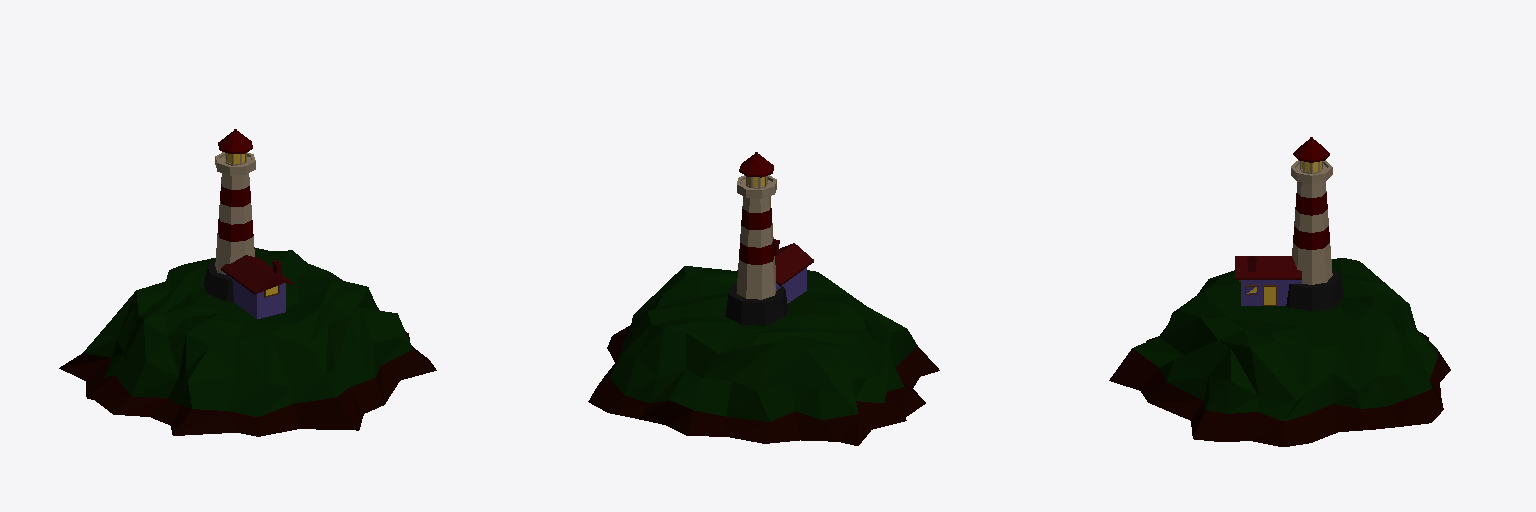
The model's file is faroFinal.obj.
3 views of the same model, side by side, from view 1: azimuth 30°, elevation 25°; view 2: azimuth 150°, elevation 25°; view 3: azimuth 270°, elevation 25° (orthographic).
Visible parts, largest first — view 1: isla, faro, casa; view 2: isla, faro, casa; view 3: isla, faro, casa.
Part boxes in pixels (left/top/right/bottom): isla: left=59, top=247, right=436, bottom=436; faro: left=204, top=129, right=255, bottom=301; casa: left=221, top=255, right=293, bottom=318; isla: left=588, top=266, right=939, bottom=445; faro: left=725, top=152, right=787, bottom=325; casa: left=774, top=239, right=813, bottom=303; isla: left=1109, top=258, right=1450, bottom=446; faro: left=1286, top=137, right=1343, bottom=310; casa: left=1235, top=256, right=1301, bottom=305.
Bounding box in the file's own units: 10.89 × 7.84 × 10.47.